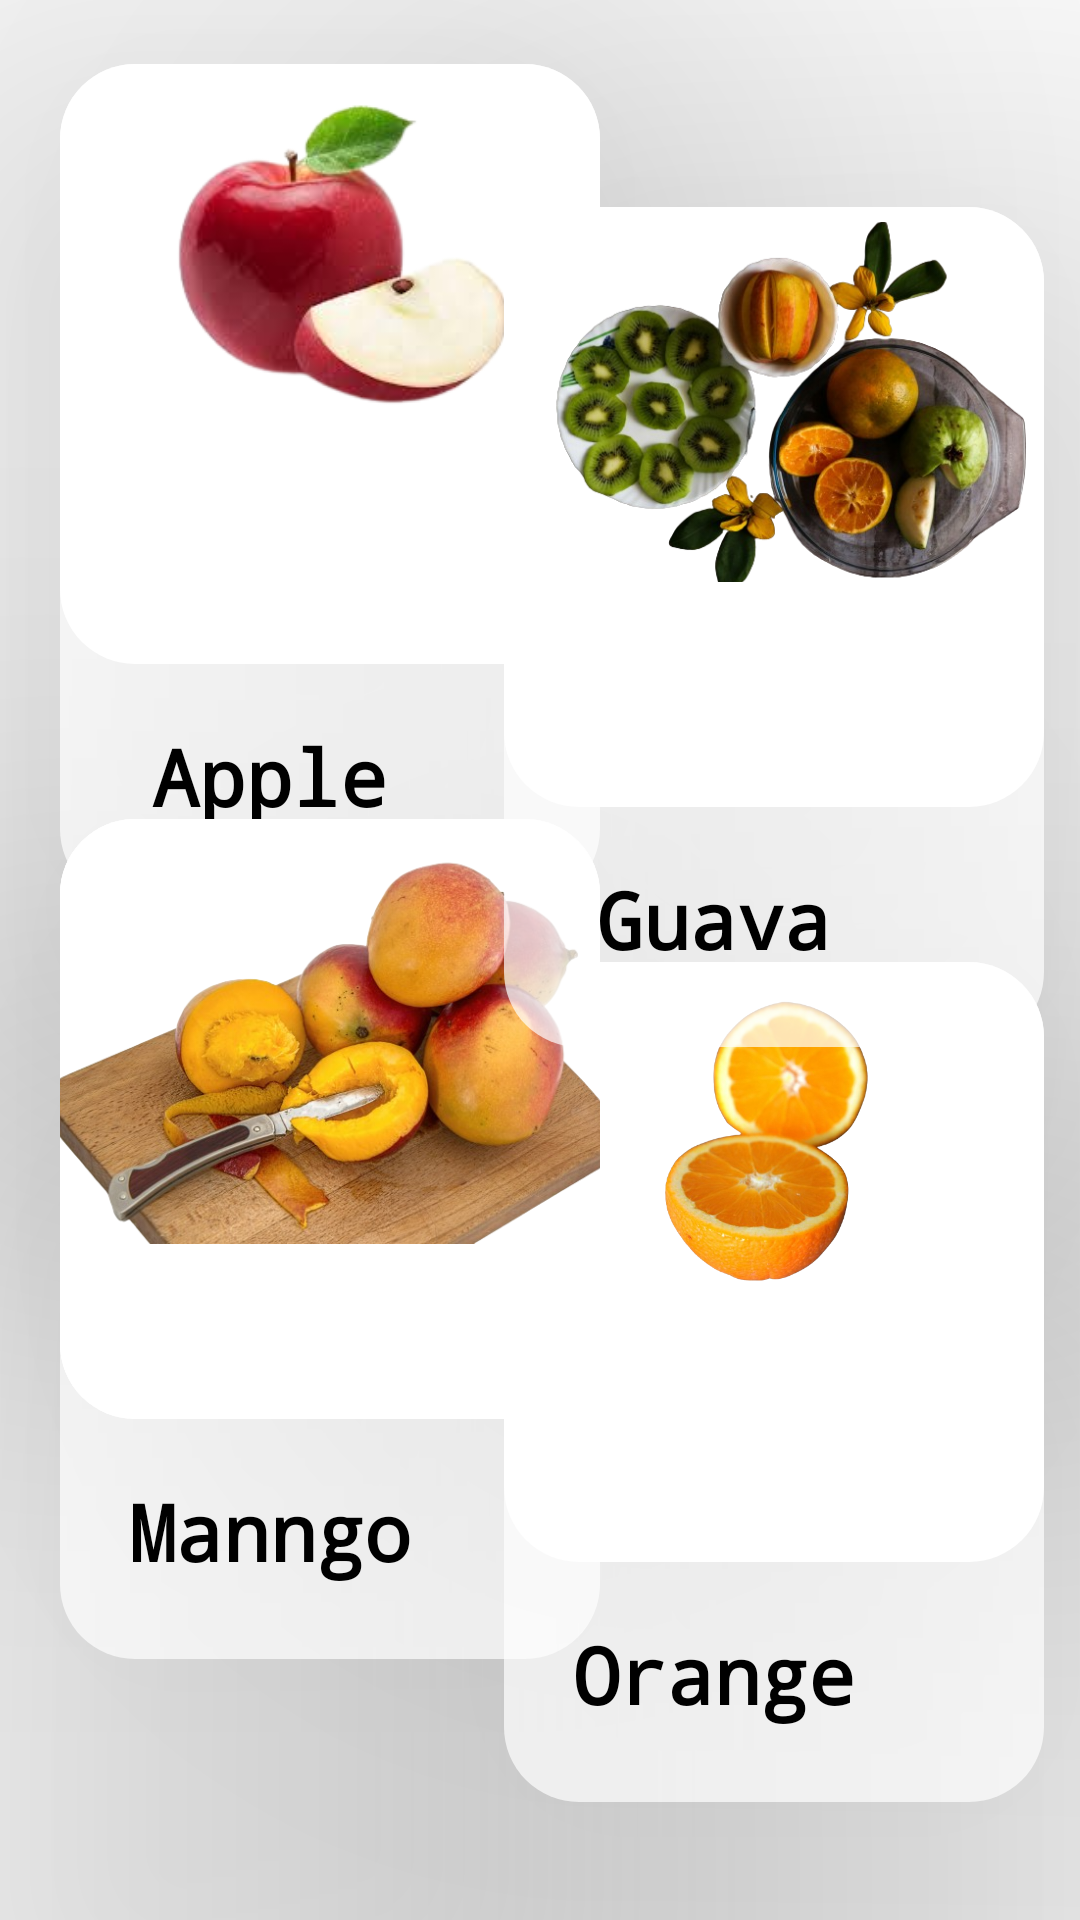

Named icons in this screenshot (1080 × 1920) and their bounding boxes, (x1, y1, x2, y2):
apple: (179, 105, 504, 403)
orage: (665, 1002, 868, 1281)
